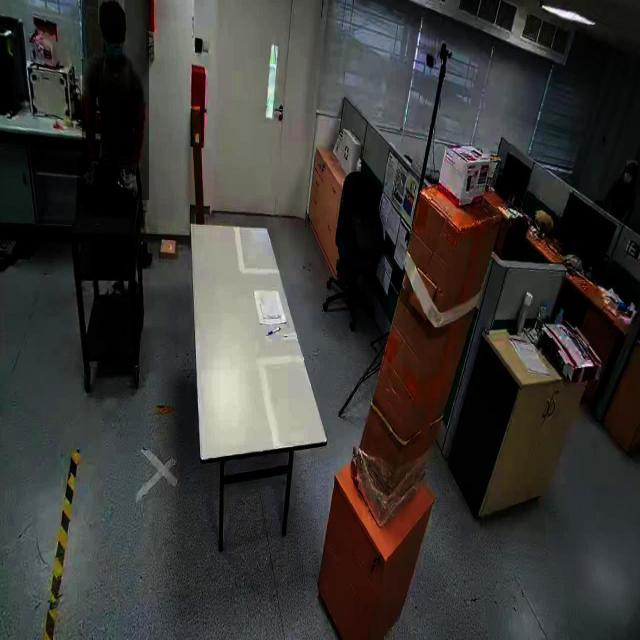face_mask: (99, 26, 127, 68)
hand_glove: (77, 158, 105, 198), (117, 164, 141, 202)
head_nohelmet: (98, 0, 125, 25), (626, 160, 638, 167)
person: (82, 0, 150, 201)
